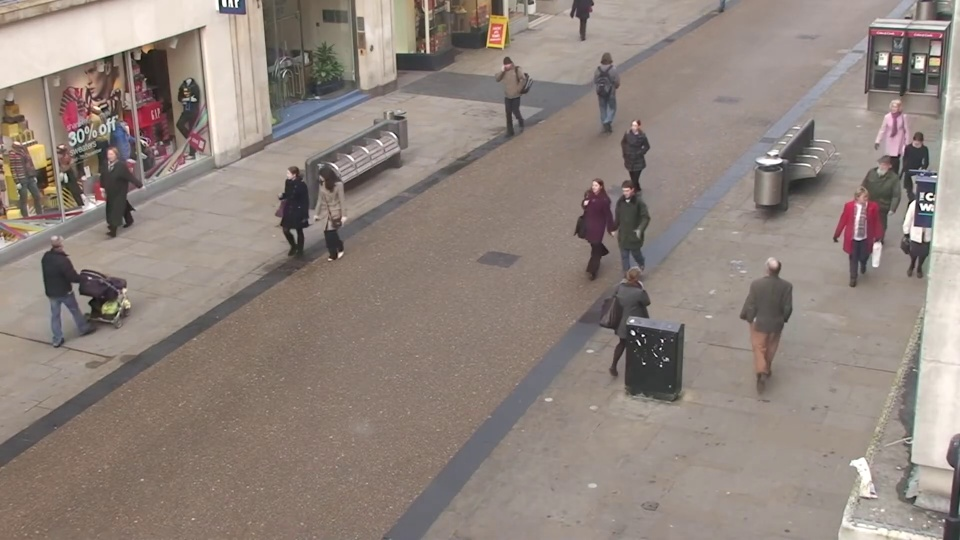pedestrian: (49, 223, 105, 345), (747, 243, 793, 372), (612, 258, 656, 392), (831, 185, 877, 300), (852, 156, 896, 264), (888, 130, 934, 232), (90, 145, 135, 247), (303, 165, 343, 274), (269, 166, 309, 274), (606, 180, 642, 294), (577, 175, 613, 288), (869, 101, 911, 196), (617, 117, 649, 213), (491, 56, 519, 135), (596, 48, 622, 125)
